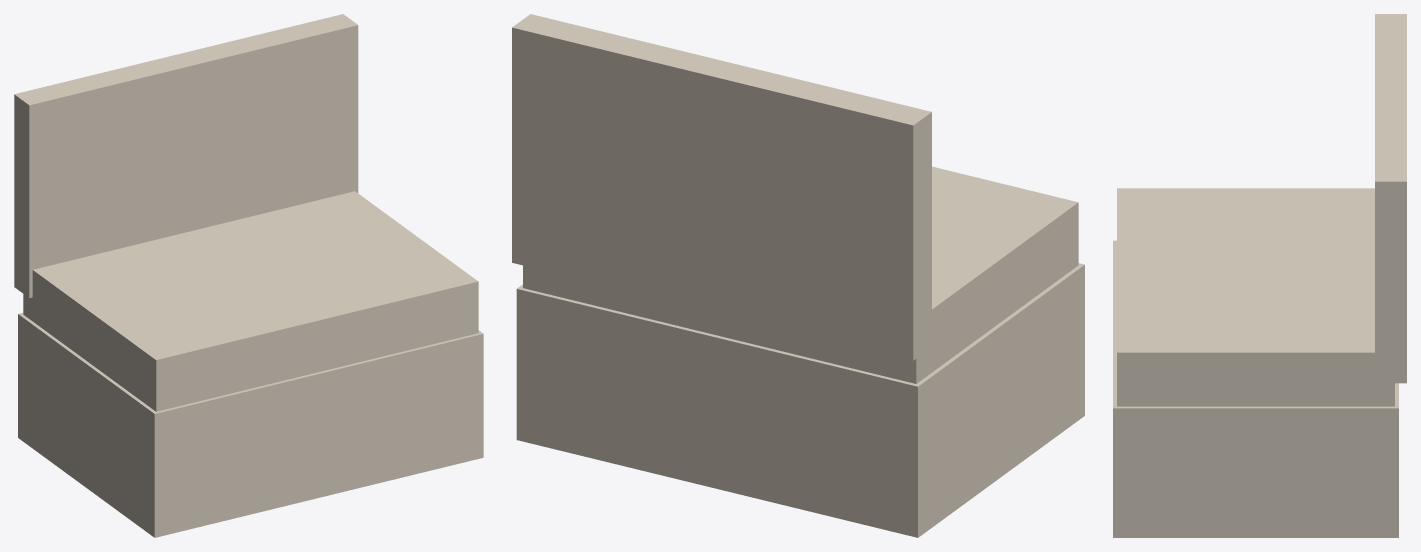
Rendered from bed.glb.
3 renders of one model, left to right at view 1: azimuth 30°, elevation 25°; view 2: azimuth 150°, elevation 25°; view 3: azimuth 270°, elevation 25°, orthographic. The views are drawn at different scales.
Visible parts, largest first — view 1: headboard, mattress, bed frame; view 2: headboard, bed frame, mattress; view 3: mattress, bed frame, headboard.
Part boxes in pixels (<box>): headboard: <box>14,14,358,297</box>; mattress: <box>23,191,478,411</box>; bed frame: <box>18,313,483,537</box>; headboard: <box>512,14,931,360</box>; bed frame: <box>516,263,1084,537</box>; mattress: <box>523,166,1078,383</box>; mattress: <box>1117,188,1394,406</box>; bed frame: <box>1113,240,1398,537</box>; headboard: <box>1375,14,1406,383</box>.
Bounding box in the file's own units: 1 × 0.99 × 0.74.
